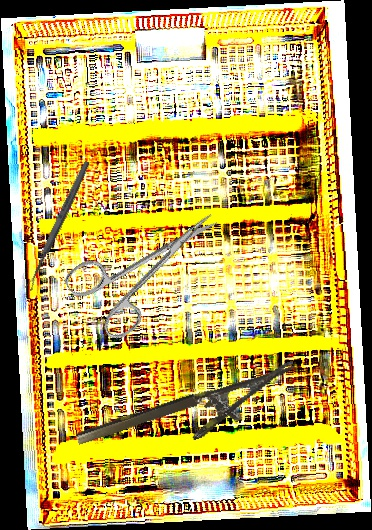Iris Scissors: (61, 186, 240, 347)
Needle Holder: (74, 360, 307, 475)
Surgical Spoon: (23, 159, 92, 292)
